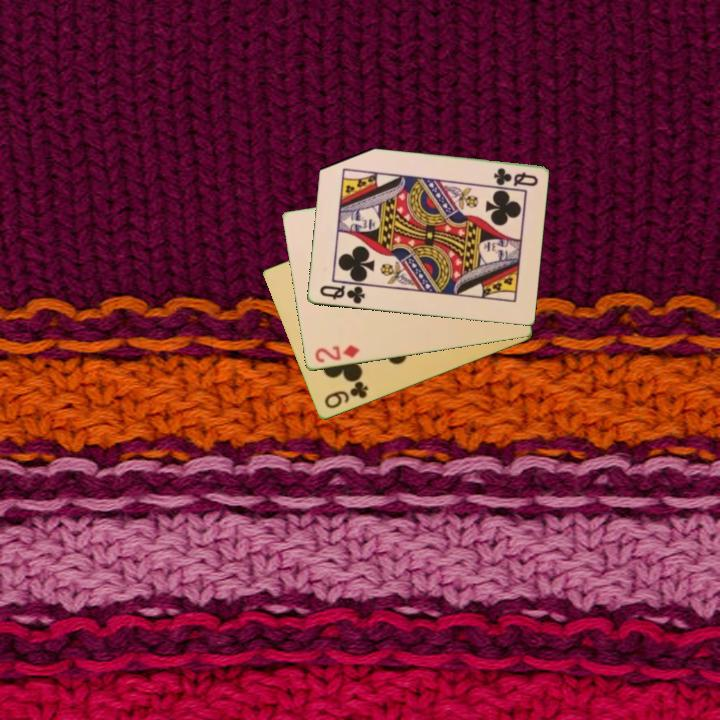2d: (311, 341, 363, 366)
9c: (321, 378, 371, 412)
Qc: (490, 164, 541, 190), (316, 282, 368, 307)
